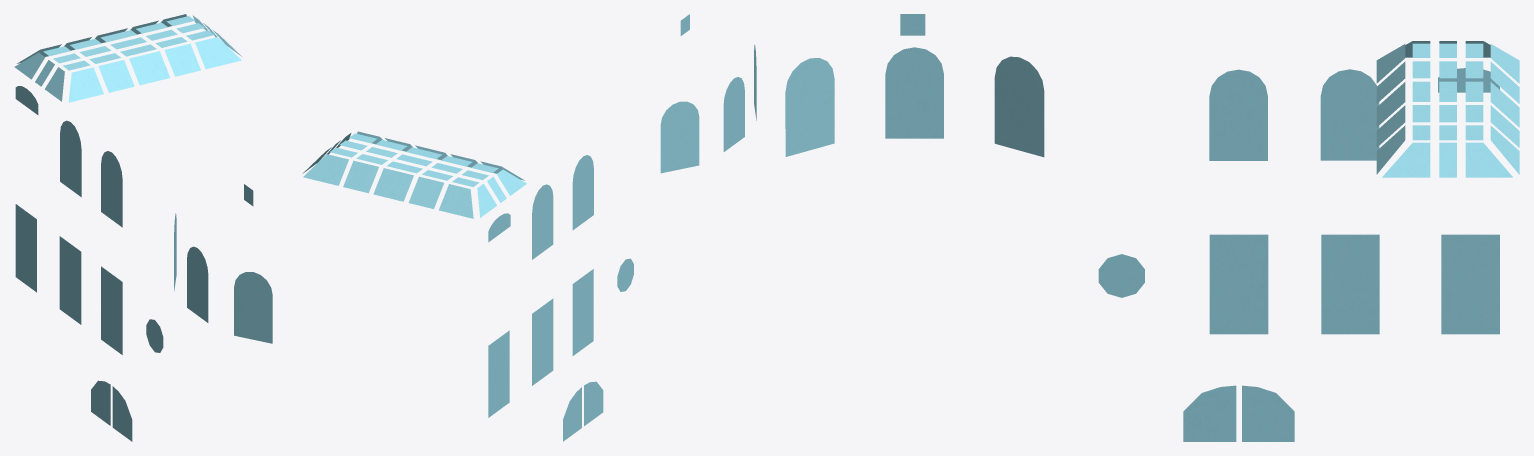
File: Ventanas.obj
3 views of the same model, side by side, from view 1: azimuth 30°, elevation 25°; view 2: azimuth 150°, elevation 25°; view 3: azimuth 270°, elevation 25° (orthographic). The views are drawn at different scales.
Parts seen in each view (by area): view 1: polySurface2 Ventanas:polySurface3; view 2: polySurface2 Ventanas:polySurface3; view 3: polySurface2 Ventanas:polySurface3.
Part boxes in pixels (x1=…): polySurface2 Ventanas:polySurface3: x1=14, y1=14, x2=272, y2=441; polySurface2 Ventanas:polySurface3: x1=302, y1=14, x2=756, y2=441; polySurface2 Ventanas:polySurface3: x1=785, y1=14, x2=1519, y2=441.
Bounding box in the file's own units: 20.38 × 28.87 × 43.76.
Materials: 1 (1 with a texture image).
